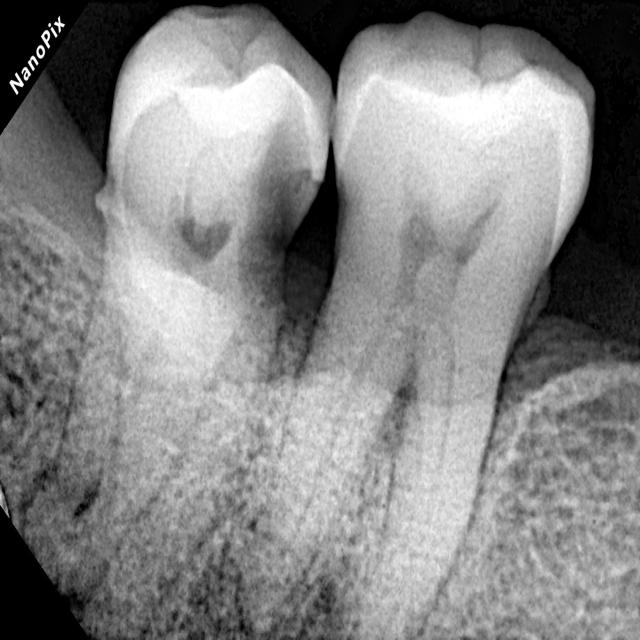karies: (248, 152, 344, 357)
